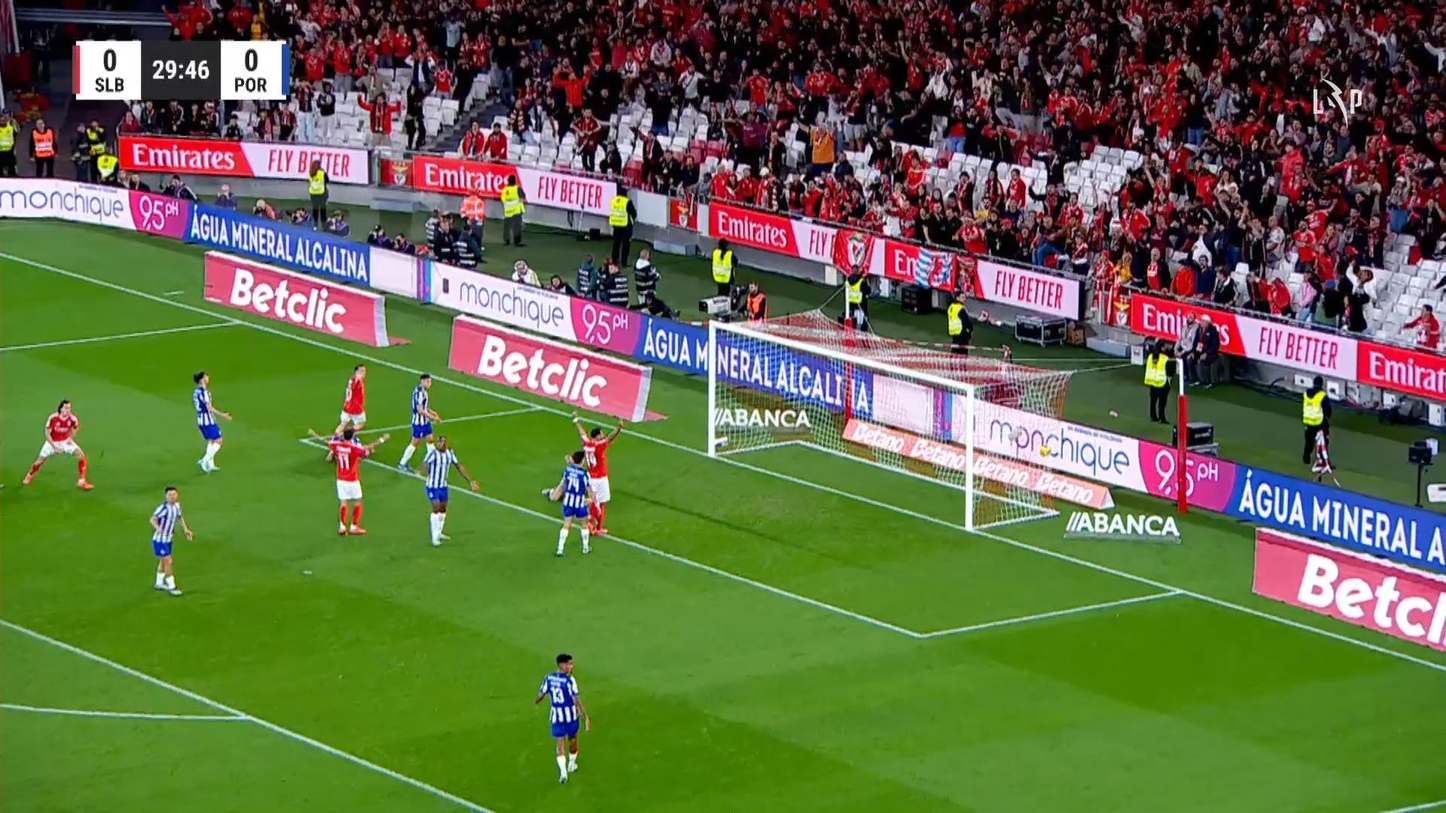ball: (1040, 445, 1051, 457)
player: (307, 419, 391, 536), (533, 653, 592, 784), (413, 434, 480, 547), (570, 410, 625, 536), (21, 397, 94, 490), (541, 449, 596, 556), (148, 486, 194, 595), (396, 373, 441, 472), (191, 370, 233, 473), (333, 363, 368, 442)
